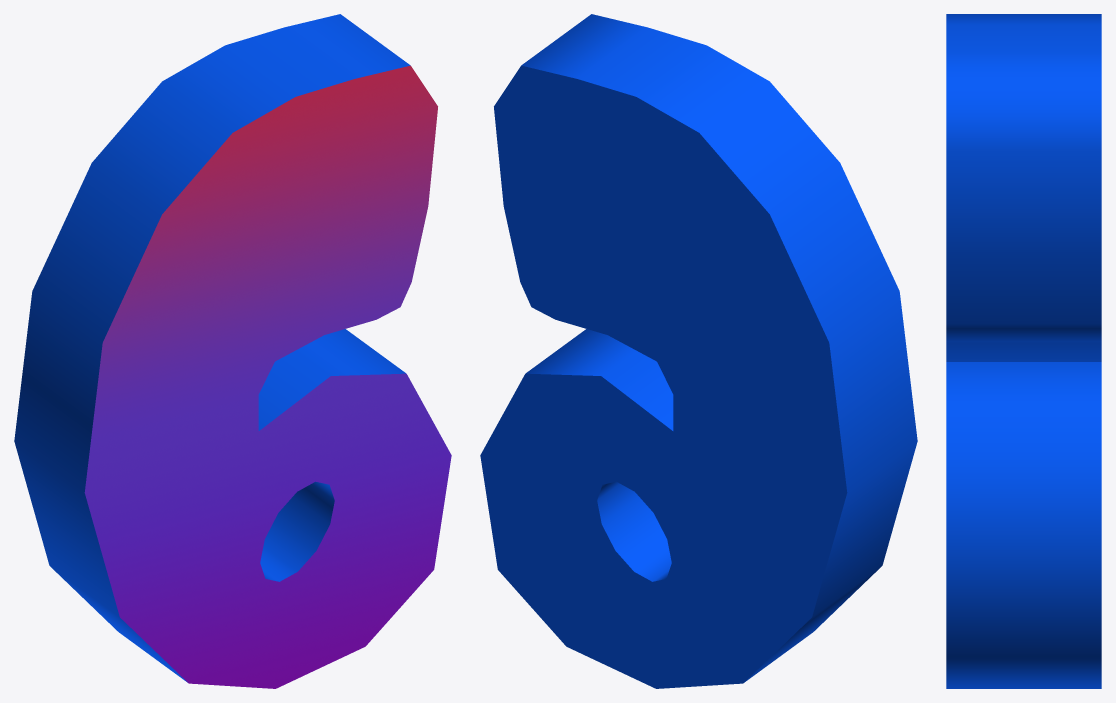
The picture shows the model from 3 angles, left to right: view 1: azimuth 30°, elevation 25°; view 2: azimuth 150°, elevation 25°; view 3: azimuth 270°, elevation 25°; orthographic projection. The views are drawn at different scales.
Visible parts, largest first — view 1: 6; view 2: 6; view 3: 6.
Part boxes in pixels (left/top/right/bottom): 6: left=14, top=14, right=451, bottom=688; 6: left=480, top=14, right=917, bottom=688; 6: left=946, top=14, right=1101, bottom=688.
Size of the model in its own units: 60.17 by 92.57 by 20.
Materials: 2 (1 with a texture image).
